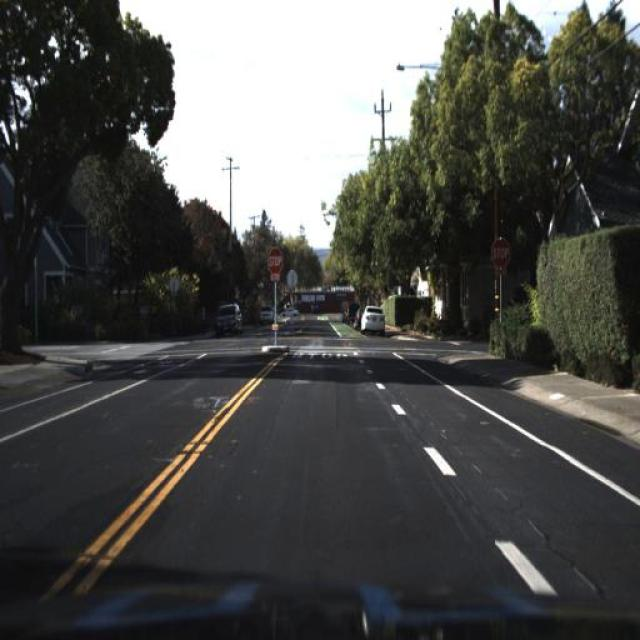car: (216, 300, 245, 336), (360, 302, 384, 338), (255, 299, 279, 329)
